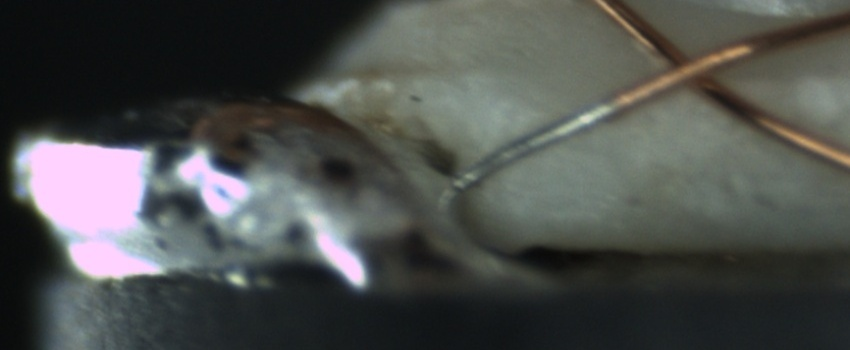CL: (639, 35, 742, 104)
TS: (456, 96, 623, 189)
